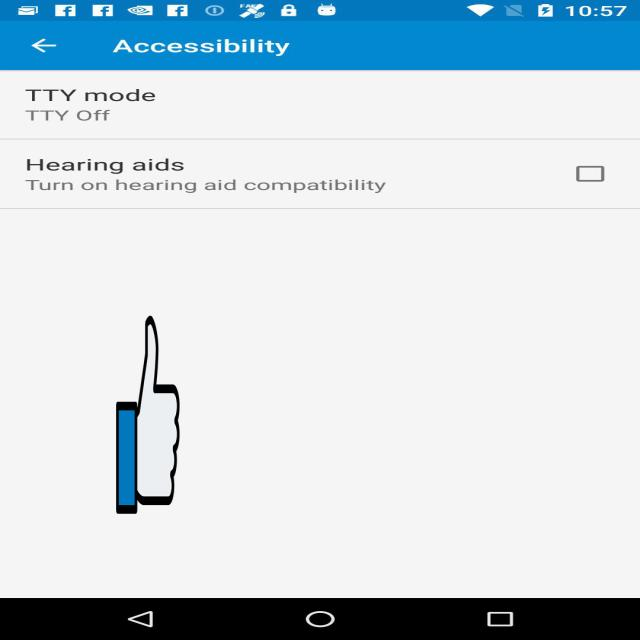privacy zuckering: (116, 311, 180, 518)
